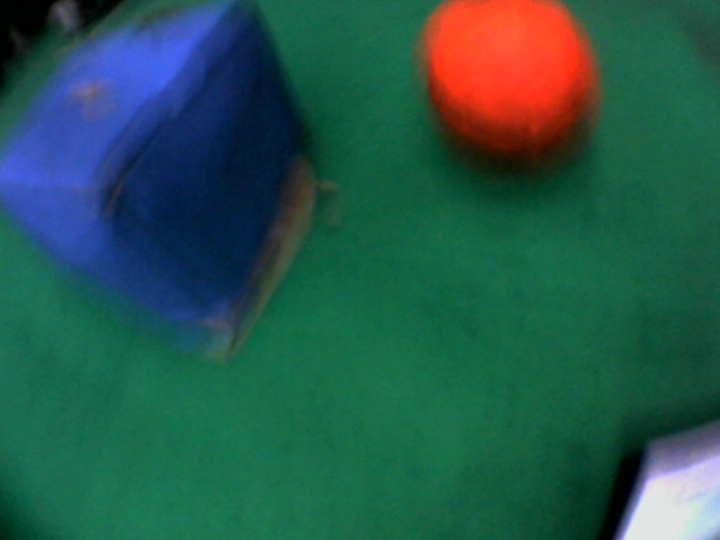bola: (419, 1, 614, 170)
